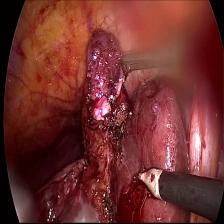Grasper: (118, 40, 167, 80)
Hook: (132, 156, 164, 203)
